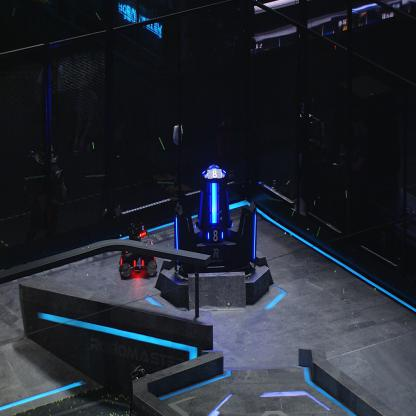car: (118, 216, 157, 279)
